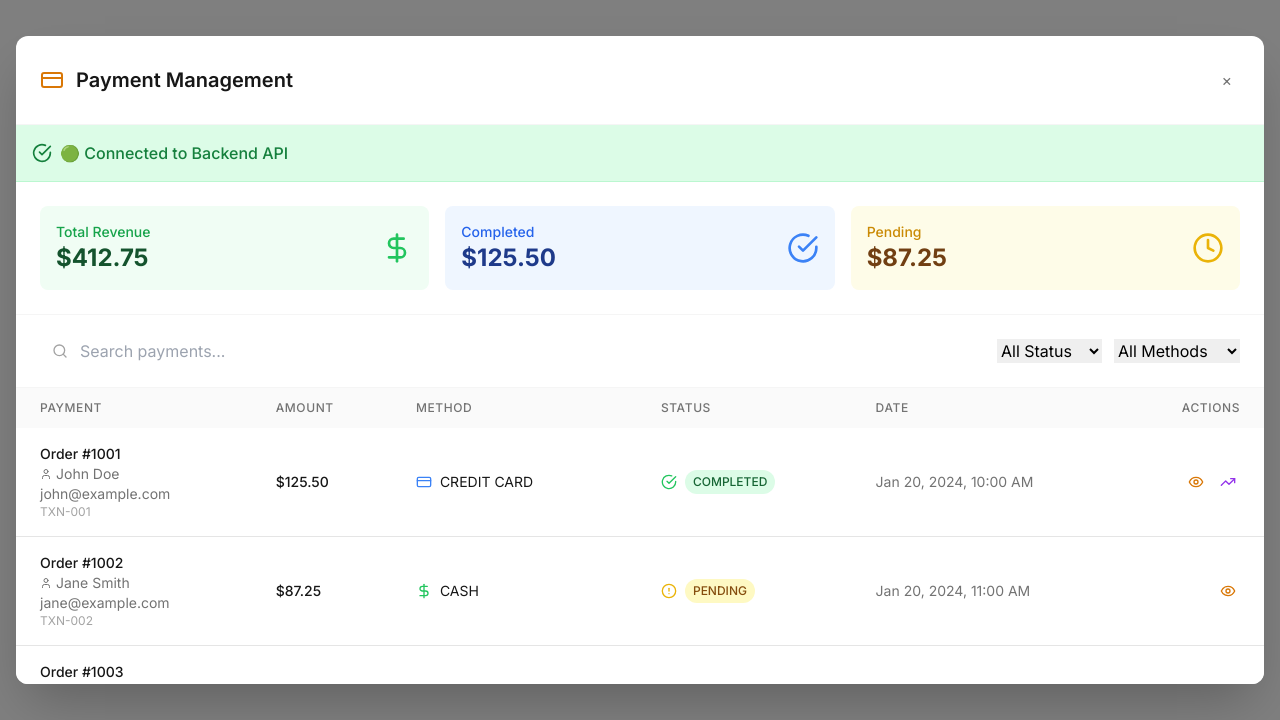
Test: PaymentManagementPanel (F106) › Filtering › should filter payments by method
Step 1. Select "Cash" in the dropdown named "filter by payment method" → (1177, 351), box left=1114, top=339, right=1240, bottom=363
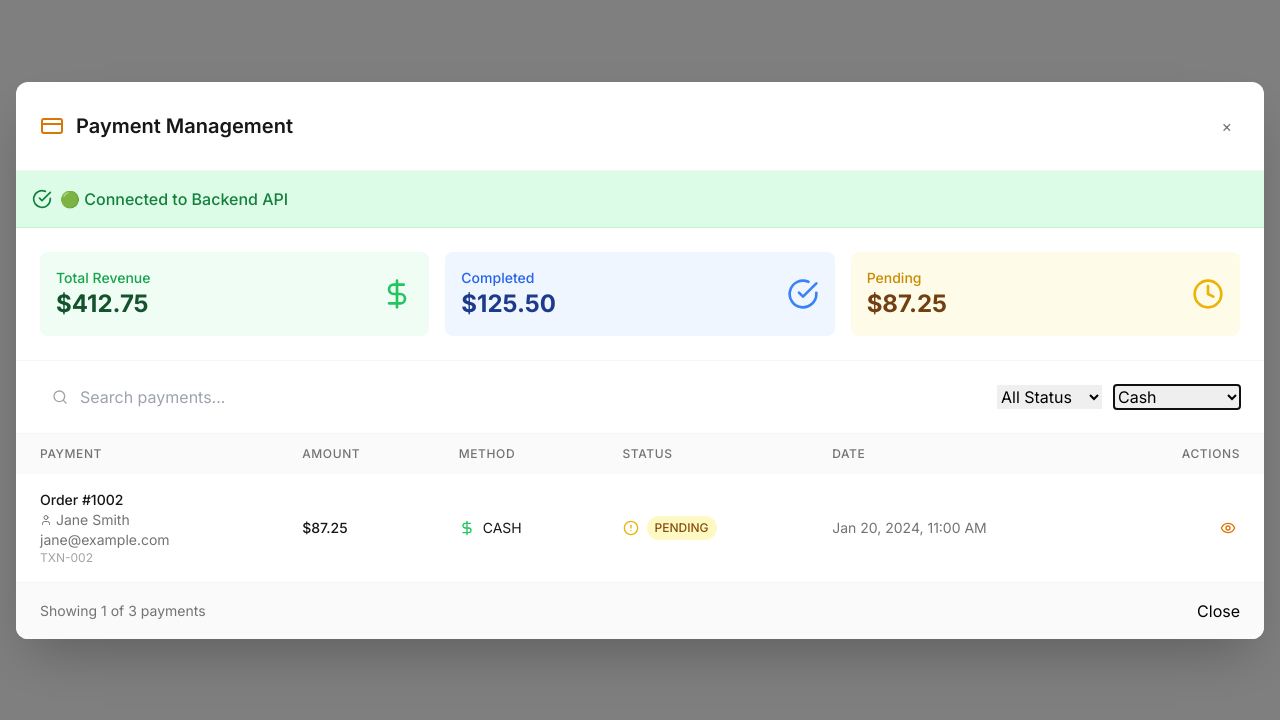
Expected: the text "jane@example.com" is shown, left=40, top=530, right=170, bottom=548
Expected: the text "john@example.com" is gone
